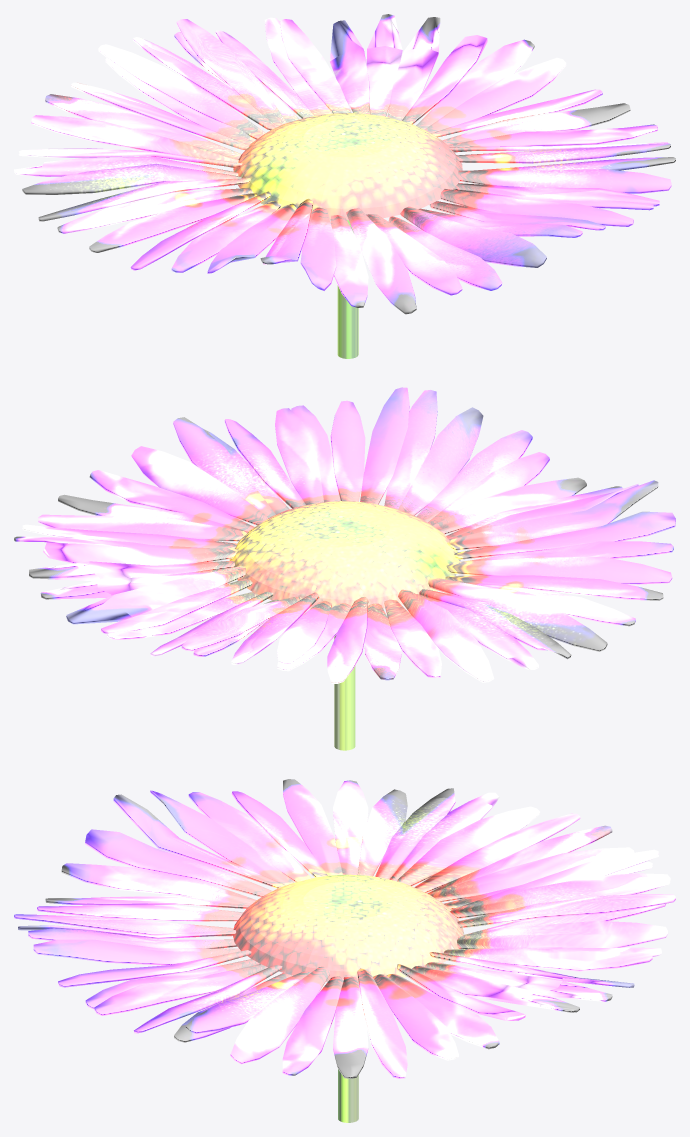
The model's file is daisy-dan.glb.
3 renders of one model, top to bottom at view 1: azimuth 30°, elevation 25°; view 2: azimuth 150°, elevation 25°; view 3: azimuth 270°, elevation 25°, orthographic.
Visible parts, largest first — view 1: Plane.013; view 2: Plane.013; view 3: Plane.013.
Boxes of the visible parts, x1=… form: Plane.013: x1=14, y1=14, x2=675, y2=358; Plane.013: x1=14, y1=387, x2=675, y2=750; Plane.013: x1=14, y1=779, x2=675, y2=1122.
Size of the model in its own units: 0.9411 by 0.3551 by 0.9376.
